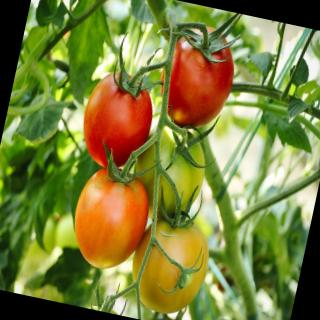Tomat: (65, 151, 161, 277), (74, 64, 165, 179)
